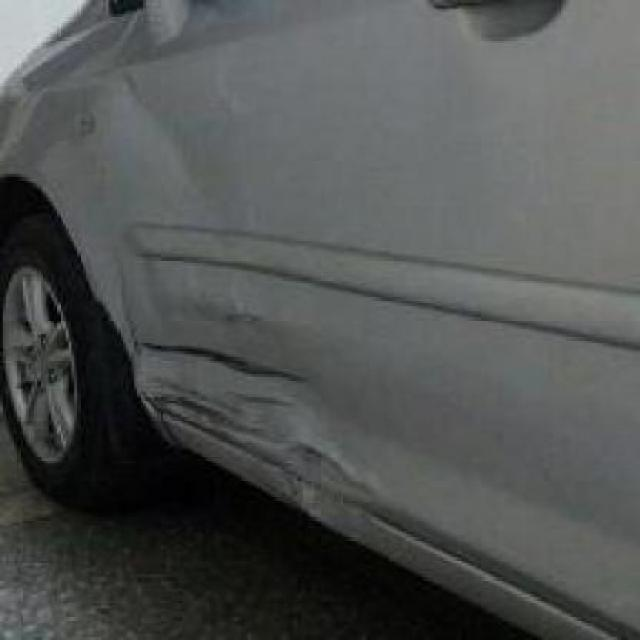dent-or-scratch: (128, 331, 361, 504)
